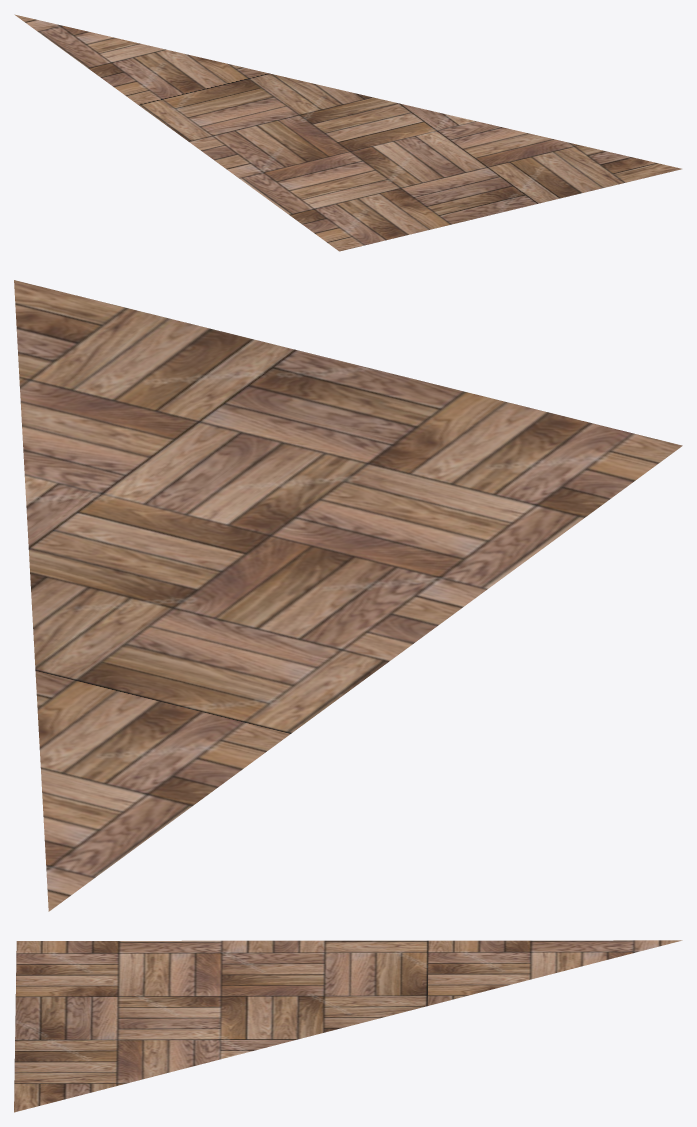
Rendered from triangle.fbx.
3 renders of one model, top to bottom at view 1: azimuth 30°, elevation 25°; view 2: azimuth 150°, elevation 25°; view 3: azimuth 270°, elevation 25°, orthographic. The views are drawn at different scales.
Visible parts, largest first — view 1: Triangle; view 2: Triangle; view 3: Triangle.
Part boxes in pixels (box(x1,y1,x2,y2)): Triangle: box(14, 14, 681, 251); Triangle: box(14, 280, 682, 911); Triangle: box(14, 940, 682, 1112).
Bounding box in the file's own units: 91.31 × 0 × 150.
